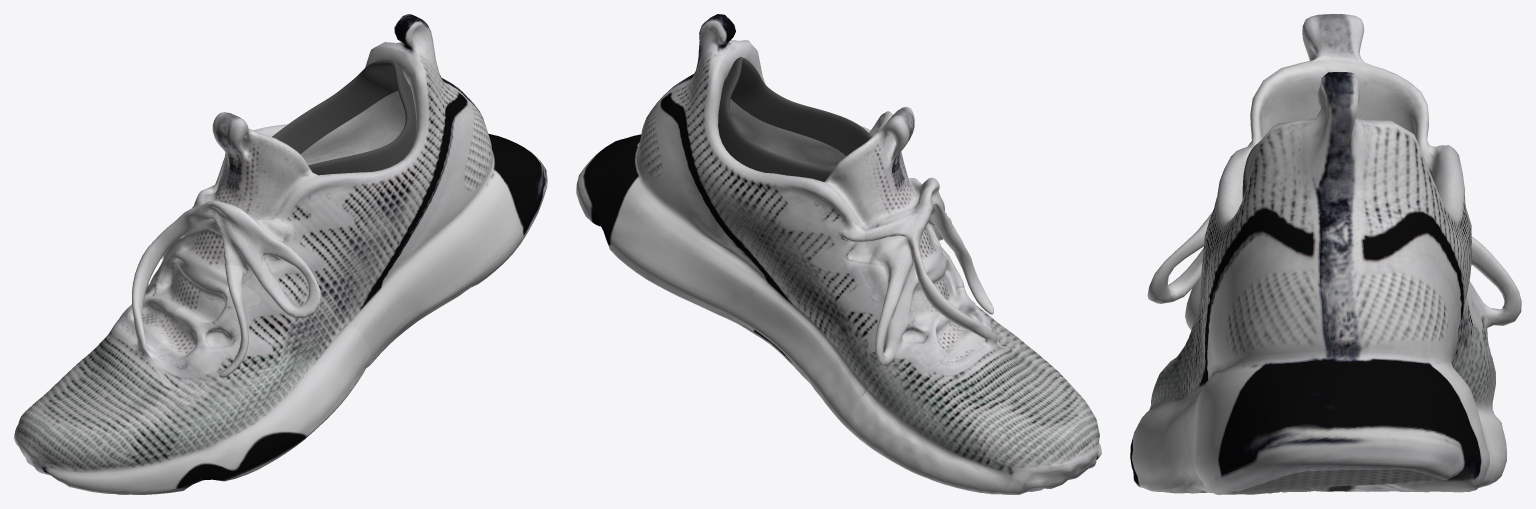
File: shoe (1).glb
3 views of the same model, side by side, from view 1: azimuth 30°, elevation 25°; view 2: azimuth 150°, elevation 25°; view 3: azimuth 270°, elevation 25° (orthographic). The views are drawn at different scales.
Parts seen in each view (by area): view 1: Shoe; view 2: Shoe; view 3: Shoe.
Boxes of the visible parts, left/top/right/bottom form: Shoe: left=14, top=14, right=547, bottom=494; Shoe: left=576, top=14, right=1101, bottom=494; Shoe: left=1130, top=14, right=1521, bottom=494.
Bounding box in the file's own units: 33 × 23.65 × 13.69.
Materials: 2 (1 with a texture image).
